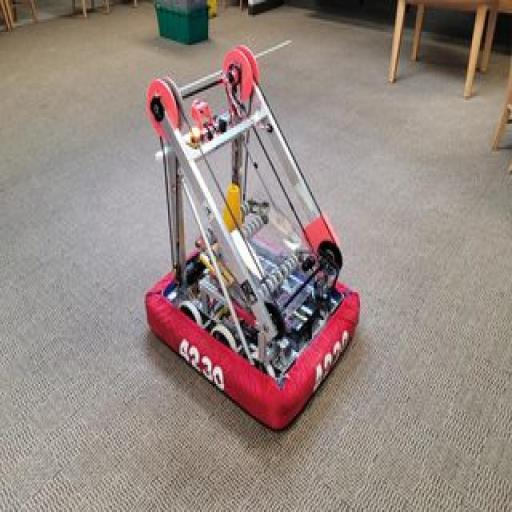robot: (142, 44, 364, 438)
